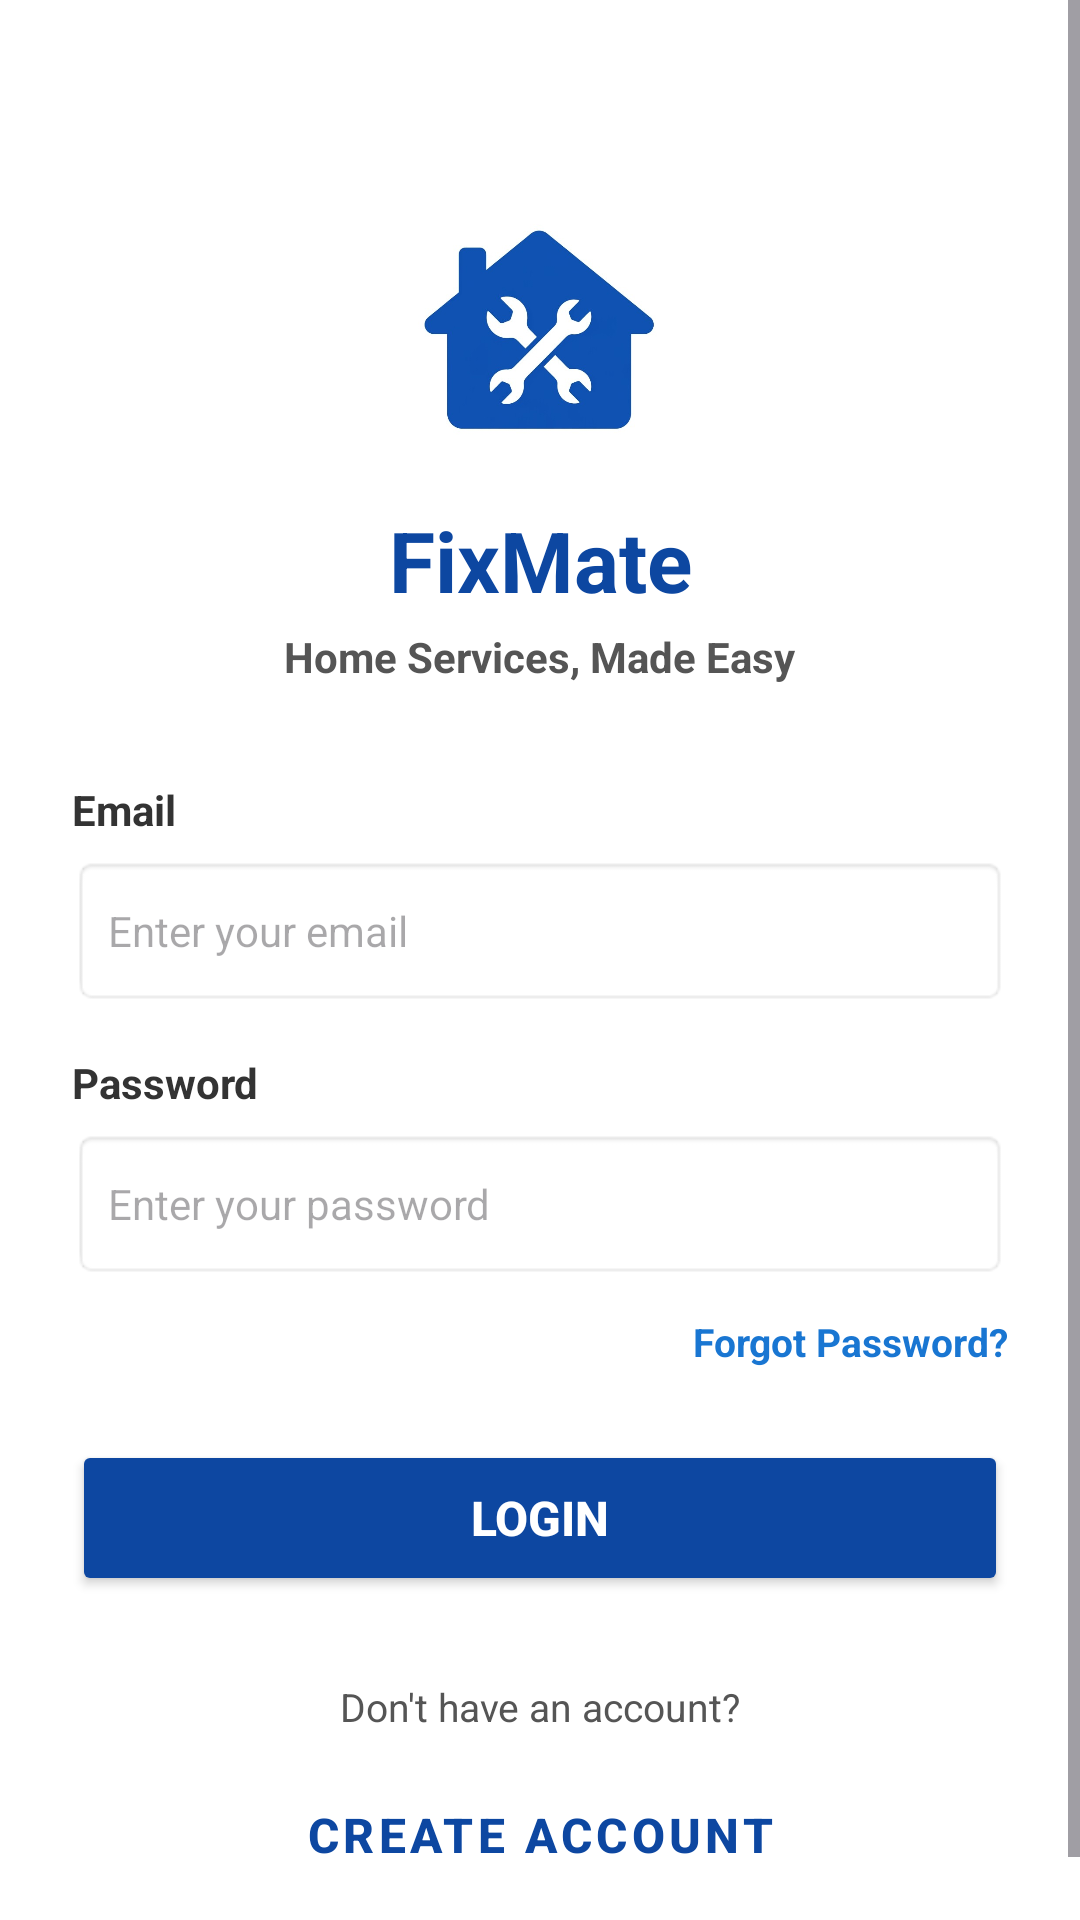

Locate icon controls on the screen. Image size 1080 x 1920, boxes as (x1, y1, x2, y2).
home: (424, 230, 654, 429)
